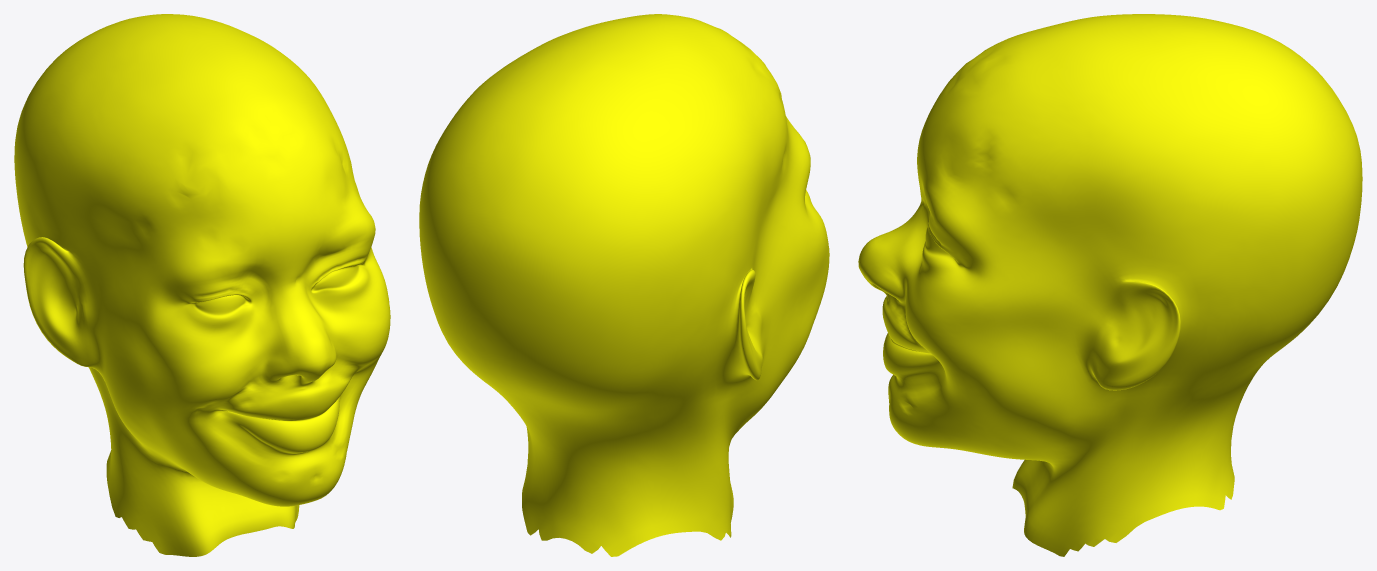
Rendered from head_yellow-transformed.glb.
3 views of the same model, side by side, from view 1: azimuth 30°, elevation 25°; view 2: azimuth 150°, elevation 25°; view 3: azimuth 270°, elevation 25° (orthographic). The views are drawn at different scales.
Visible parts, largest first — view 1: FaceBuilderHead.002; view 2: FaceBuilderHead.002; view 3: FaceBuilderHead.002.
Part boxes in pixels (x1,y1,x2,y2): FaceBuilderHead.002: (14, 14, 390, 556); FaceBuilderHead.002: (419, 14, 829, 556); FaceBuilderHead.002: (858, 14, 1362, 556).
Size of the model in its own units: 1.96 by 2.91 by 2.69.
